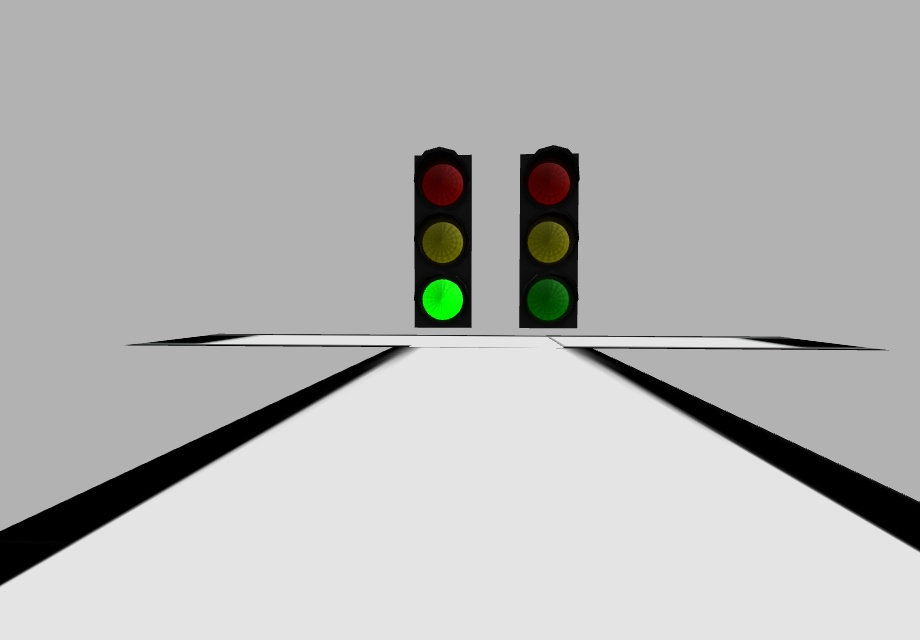green_off: (528, 277, 565, 318)
green_on: (422, 278, 461, 319)
